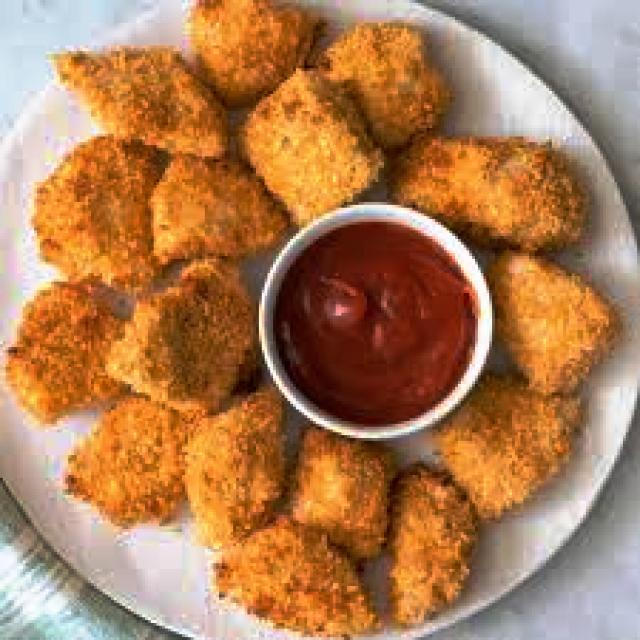chicken_nuggets: (54, 0, 449, 216), (217, 426, 479, 633), (8, 259, 260, 415), (34, 139, 286, 286), (64, 382, 289, 544), (390, 134, 587, 248), (435, 377, 586, 522), (484, 243, 620, 395)
ketchup: (273, 223, 476, 427)
